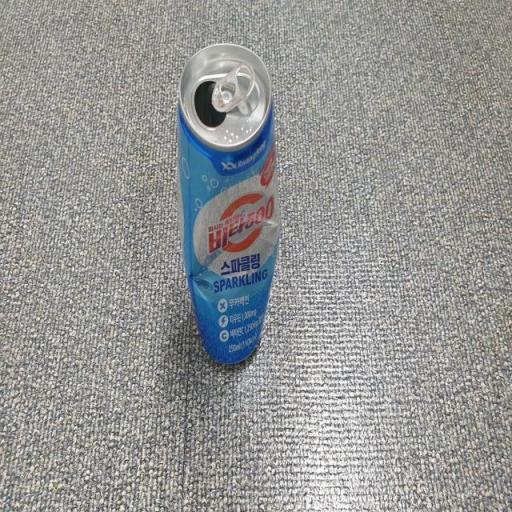metal: (166, 30, 290, 380)
